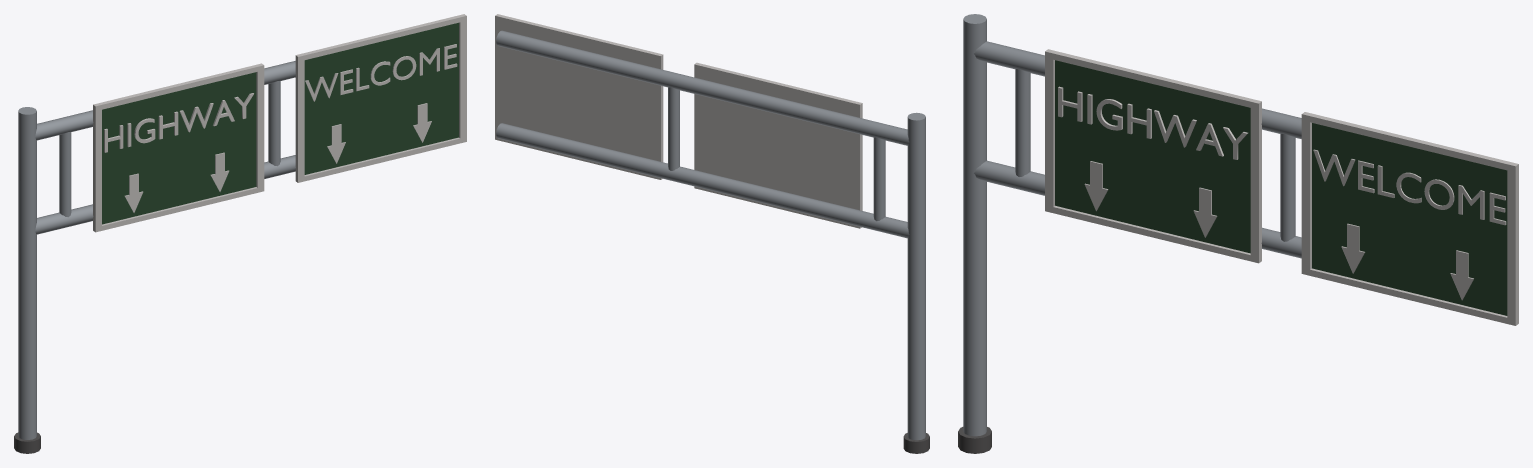
File: TrafficSign_14.fbx
3 renders of one model, left to right at view 1: azimuth 30°, elevation 25°; view 2: azimuth 150°, elevation 25°; view 3: azimuth 330°, elevation 25°, orthographic. The views are drawn at different scales.
Visible parts, largest first — view 1: TrafficSign_14; view 2: TrafficSign_14; view 3: TrafficSign_14.
Part boxes in pixels (<box>): TrafficSign_14: <box>14,14,466,453</box>; TrafficSign_14: <box>495,14,929,453</box>; TrafficSign_14: <box>958,14,1518,453</box>.
Size of the model in its own units: 589 by 427 by 30.77.
